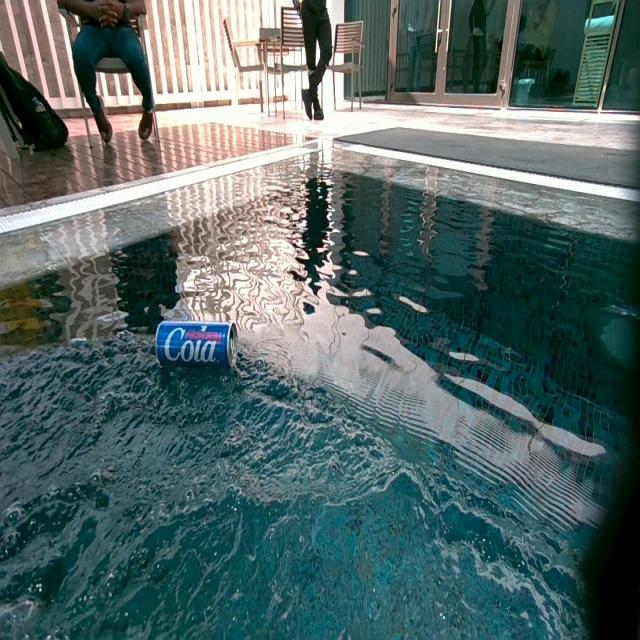Cans: (154, 323, 238, 373)
